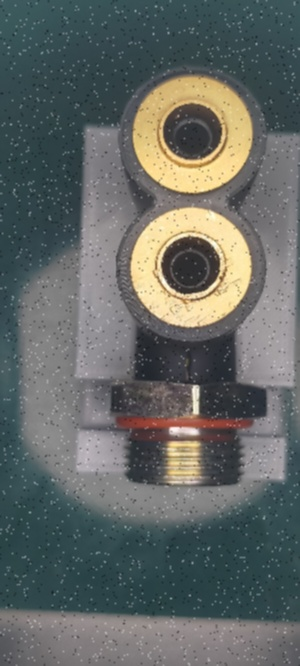craze: (182, 348, 197, 383)
